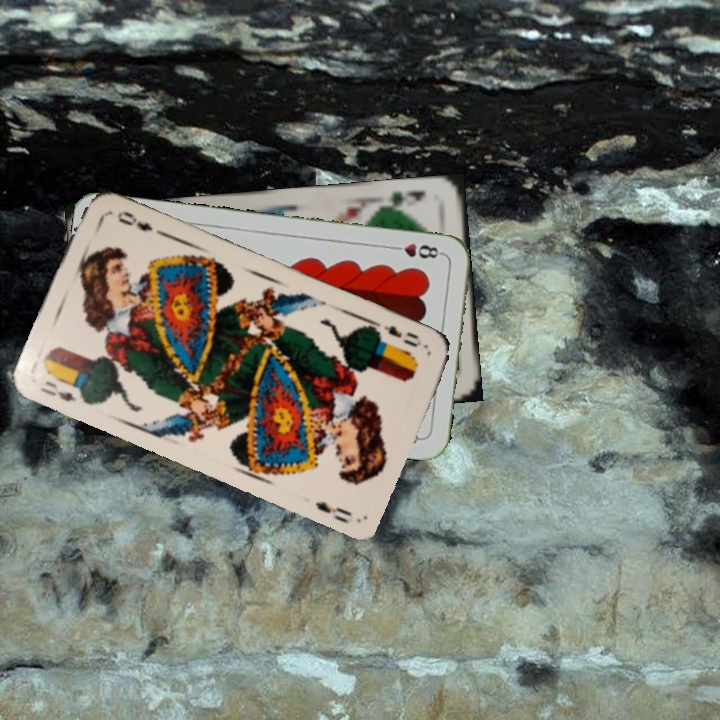EO: (371, 321, 424, 350), (36, 376, 80, 405)
GK: (380, 186, 428, 213)
H8: (386, 239, 445, 261)
